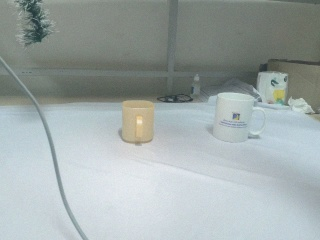bottle: (191, 74, 201, 100)
box: (266, 57, 320, 116), (257, 70, 290, 105)
cup: (212, 91, 267, 144), (120, 99, 155, 144)
